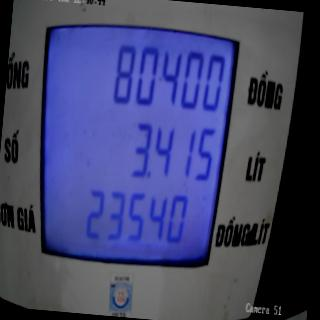screen: (22, 0, 245, 281)
